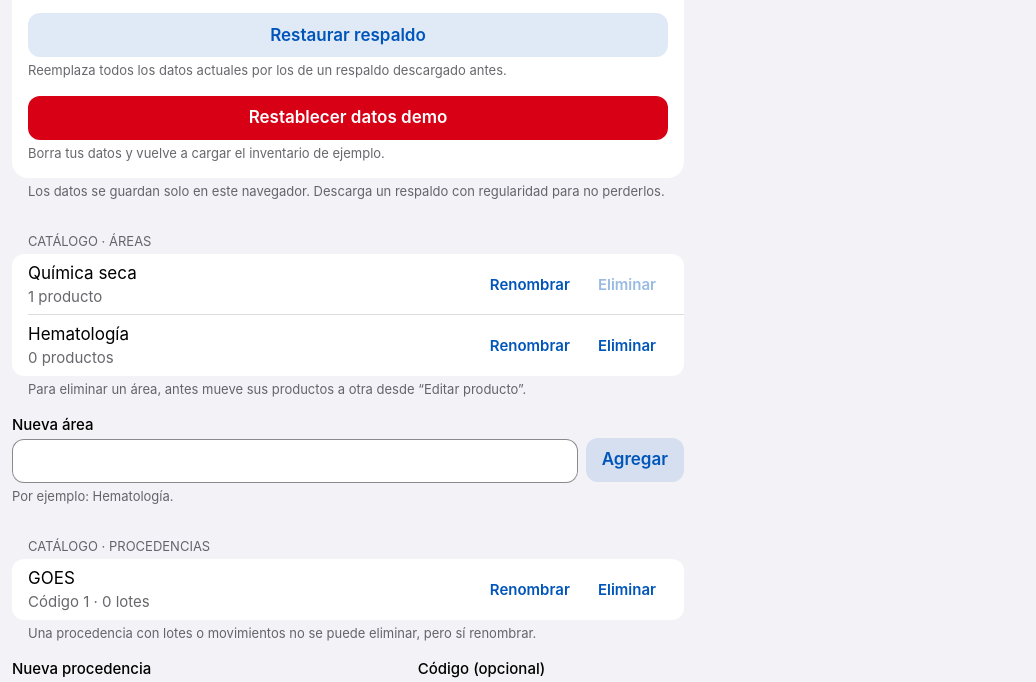
Scenario: SettingsPage › areas › adds an area and rejects empty or repeated names
(page scrolled)
Step 1. Click the button with aria-label "Agregar área" → (635, 460), box [586,438,684,482]
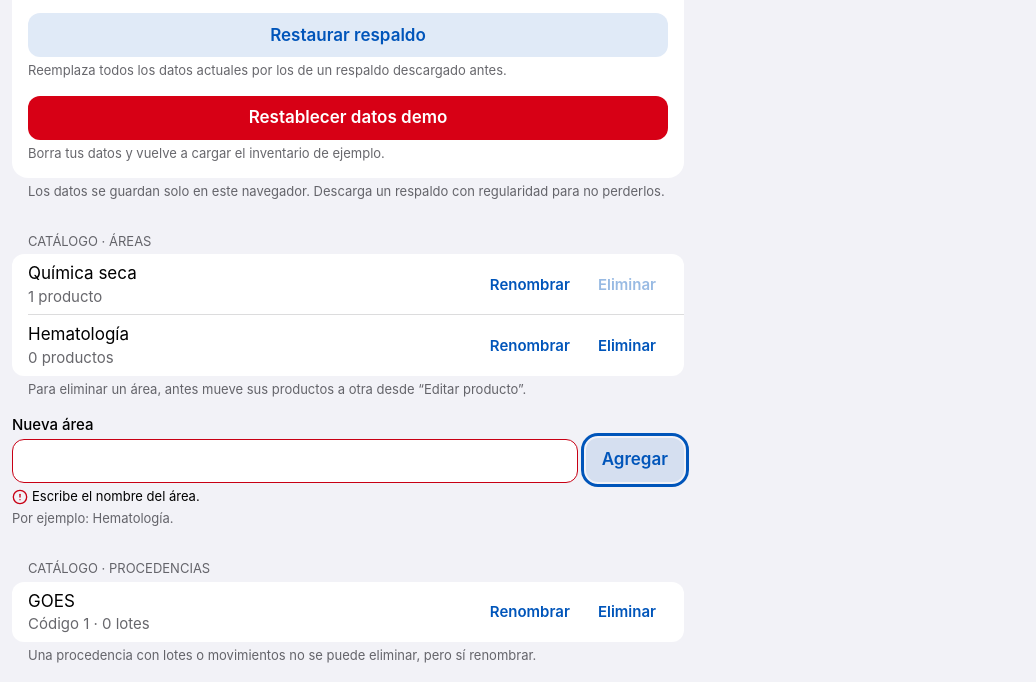
Now the text "Escribe el nombre del área." is shown, box [32,487,200,505]
Step 2. Type "hematologia" into the field labelled "Nueva área" → (295, 461), box [12,439,578,483]
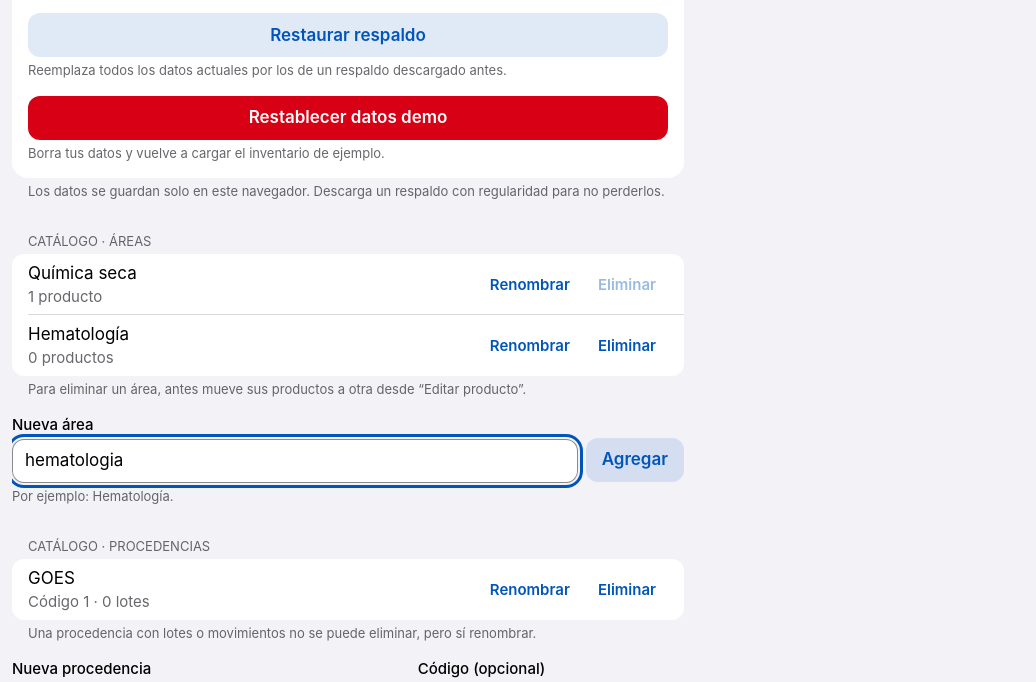
Step 3. Click the button with aria-label "Agregar área" → (635, 460), box [586,438,684,482]
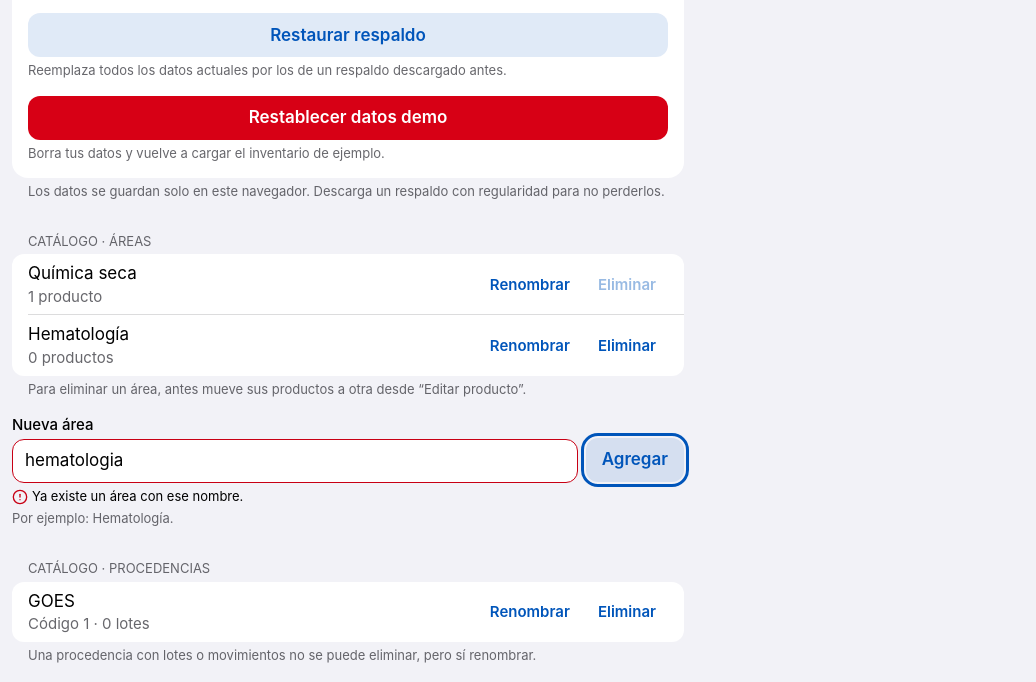
Now the text "Ya existe un área con ese nombre." is shown, box [32,487,243,505]
Step 4. Replace the text in the field labelled "Nueva área" with "Microbiología" → (295, 461), box [12,439,578,483]
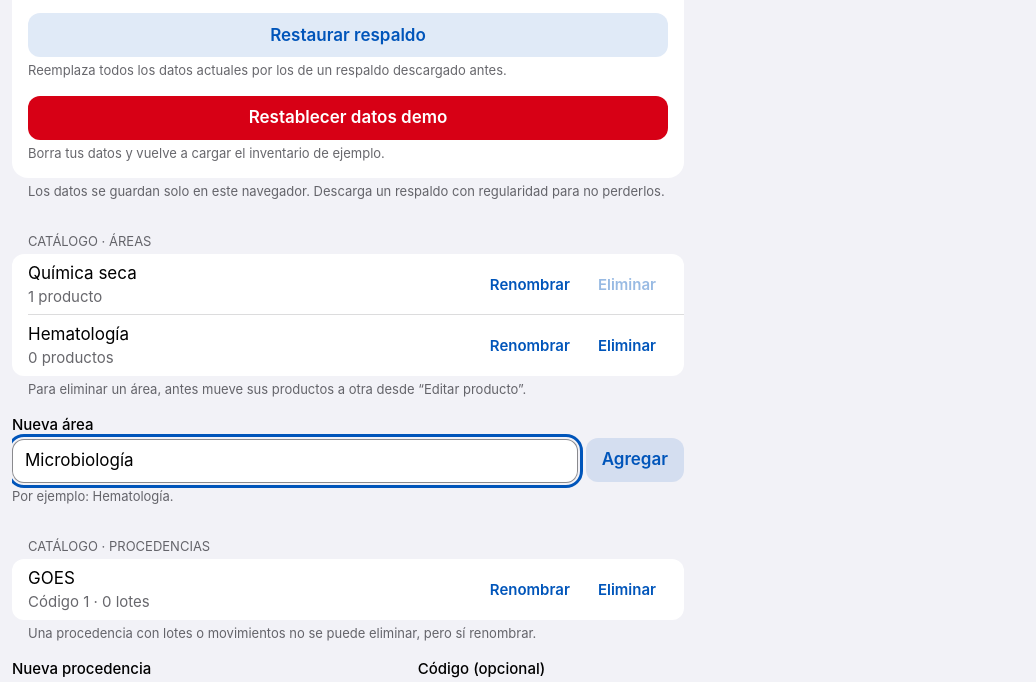
Step 5. Click the button with aria-label "Agregar área" → (635, 460), box [586,438,684,482]
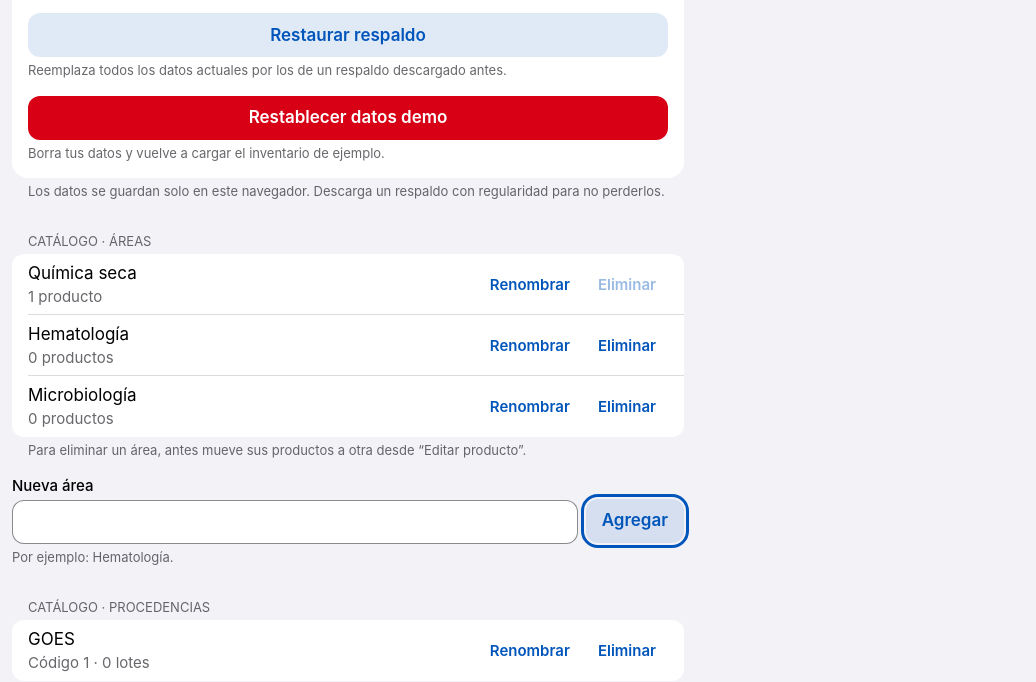
Now the text "Microbiología" is shown, box [28,385,137,405]
